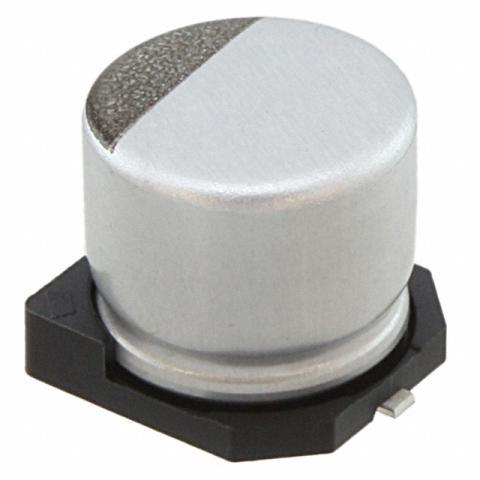Capacitor: (66, 15, 442, 404)
